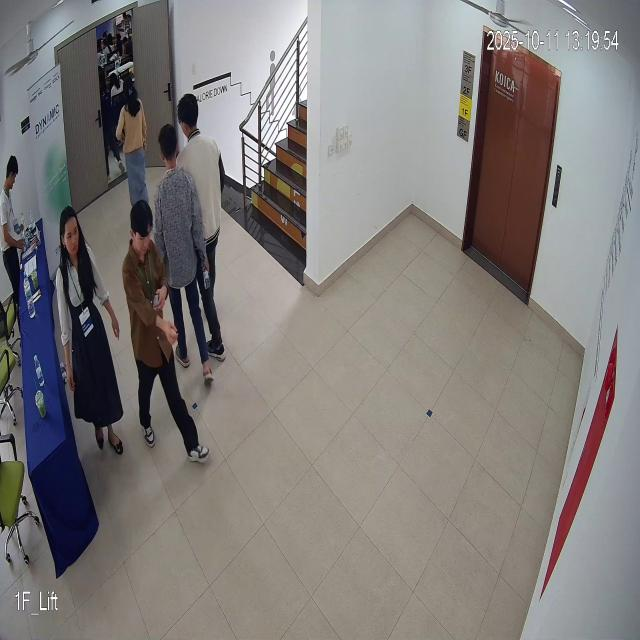face: (126, 194, 158, 258), (58, 202, 82, 258)
